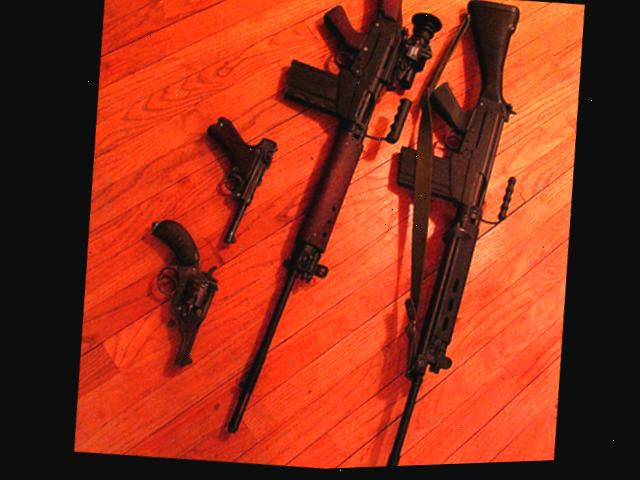rifle: (202, 0, 455, 461), (348, 0, 542, 470), (135, 211, 226, 375), (191, 114, 280, 250)
